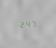four: (25, 20, 30, 27)
seven: (31, 19, 36, 27)
two: (18, 20, 23, 28)
